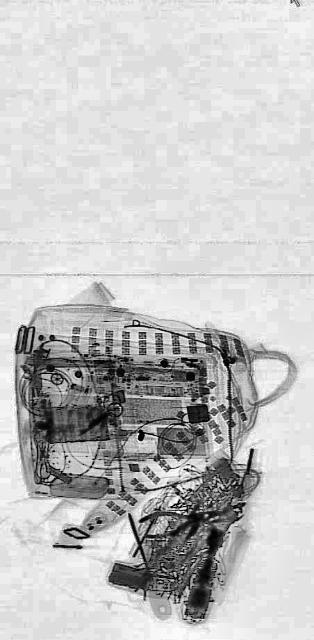Pliers: (138, 498, 214, 542)
